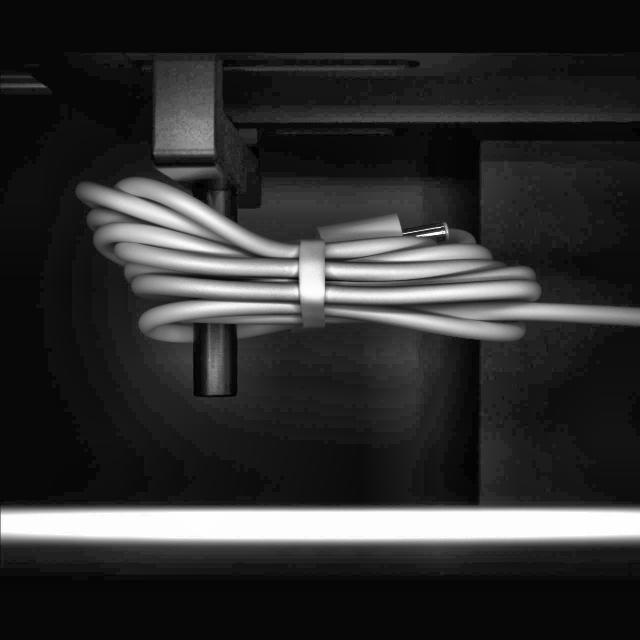Cable: (70, 171, 640, 347)
